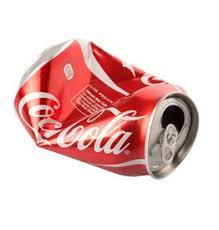can: (16, 31, 196, 187)
